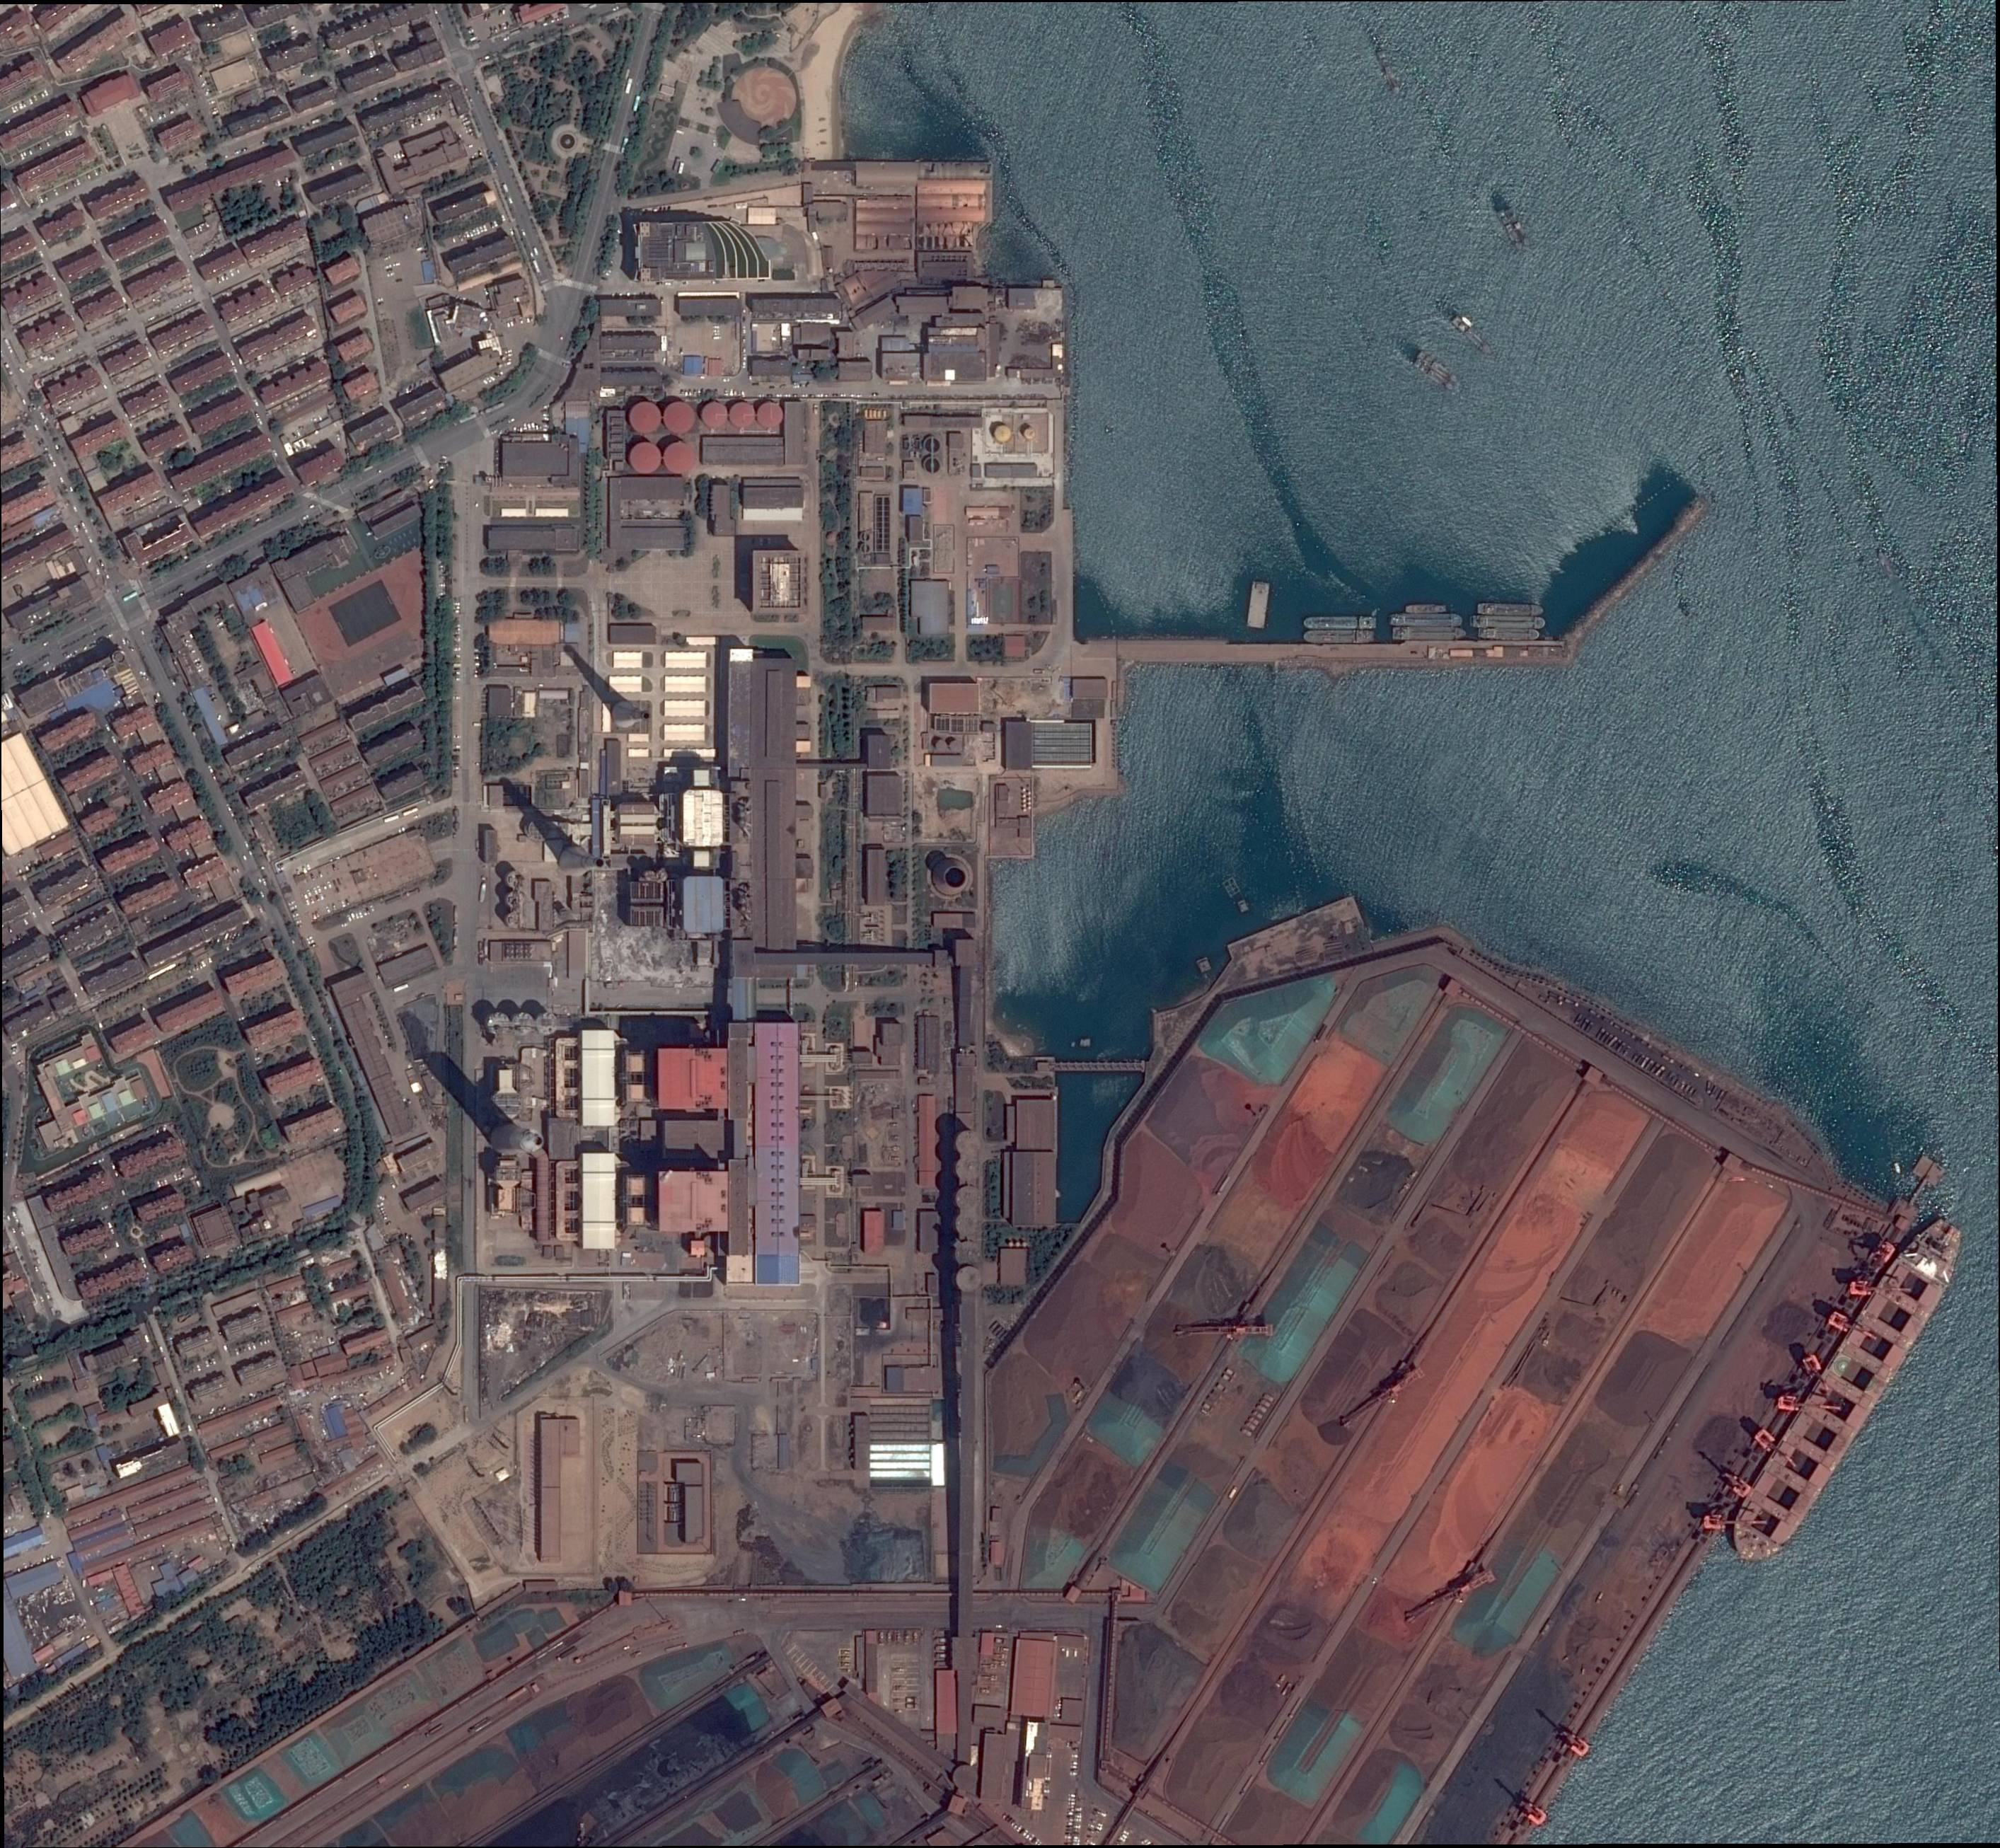bridge: (1054, 1062, 1145, 1071)
large vehicle: (507, 1687, 528, 1702), (556, 1646, 577, 1661), (424, 1723, 444, 1738), (666, 1644, 688, 1653), (403, 807, 419, 817), (393, 983, 410, 993), (620, 138, 630, 154), (383, 815, 400, 823), (633, 96, 641, 112), (625, 79, 633, 94)
ship: (1720, 1212, 1977, 1572), (1412, 350, 1464, 395), (1451, 314, 1493, 356), (1498, 207, 1530, 251), (1470, 614, 1547, 630), (1247, 581, 1270, 629), (1389, 613, 1462, 627), (1303, 630, 1376, 644), (1302, 617, 1377, 630), (1393, 627, 1467, 640), (1478, 603, 1544, 616), (1479, 628, 1539, 640), (1405, 604, 1447, 613)
storage tank: (630, 442, 662, 475), (630, 402, 661, 434), (664, 401, 695, 434), (664, 442, 695, 475), (729, 401, 756, 428), (702, 402, 728, 428), (758, 401, 783, 427), (958, 1265, 981, 1292), (487, 1012, 511, 1037), (512, 1012, 534, 1037), (536, 1012, 557, 1036), (507, 870, 526, 889), (507, 911, 526, 930), (507, 890, 527, 907), (924, 456, 942, 474), (994, 425, 1012, 442), (924, 437, 941, 454), (1024, 427, 1036, 439), (1015, 1242, 1021, 1247), (1022, 1242, 1028, 1247), (1009, 1242, 1013, 1248)
